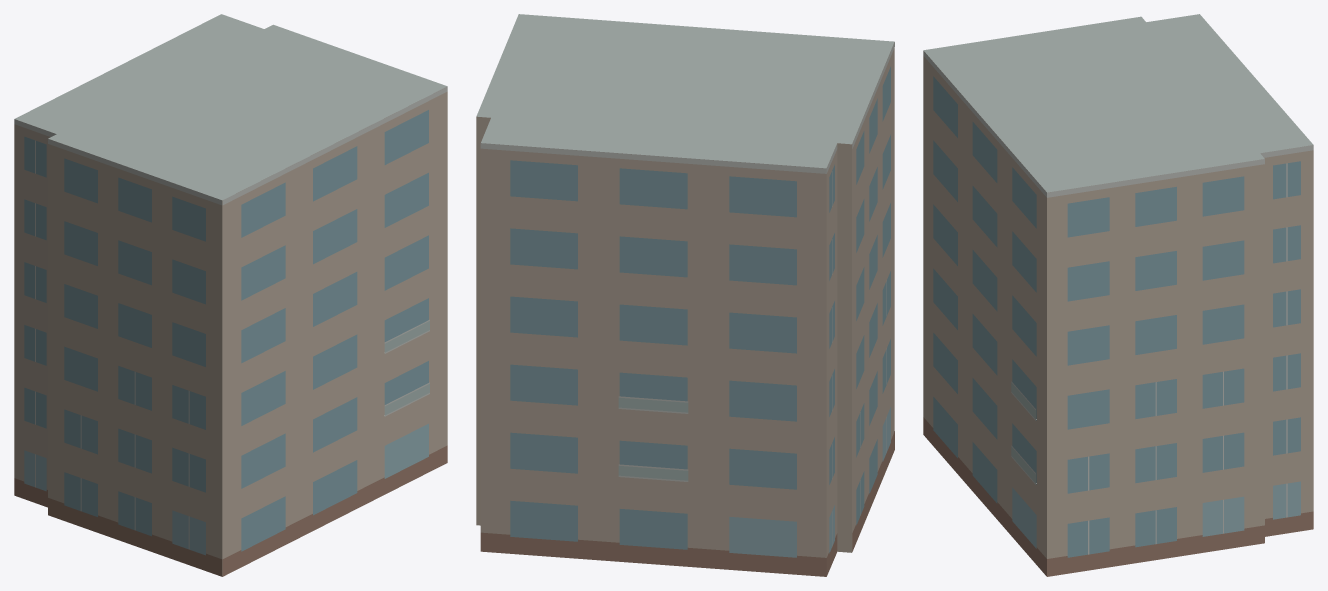
The model's file is survey-upis-32701867.glb.
The picture shows the model from 3 angles, left to right: view 1: azimuth 30°, elevation 25°; view 2: azimuth 150°, elevation 25°; view 3: azimuth 270°, elevation 25°; orthographic projection. The views are drawn at different scales.
Visible parts, largest first — view 1: survey-upis-32701867.tmp; view 2: survey-upis-32701867.tmp; view 3: survey-upis-32701867.tmp.
Boxes of the visible parts, bbox=[...] form: survey-upis-32701867.tmp: bbox=[14, 14, 447, 576]; survey-upis-32701867.tmp: bbox=[476, 14, 894, 576]; survey-upis-32701867.tmp: bbox=[923, 14, 1313, 576].
Size of the model in its own units: 17.85 by 17.9 by 16.49.
